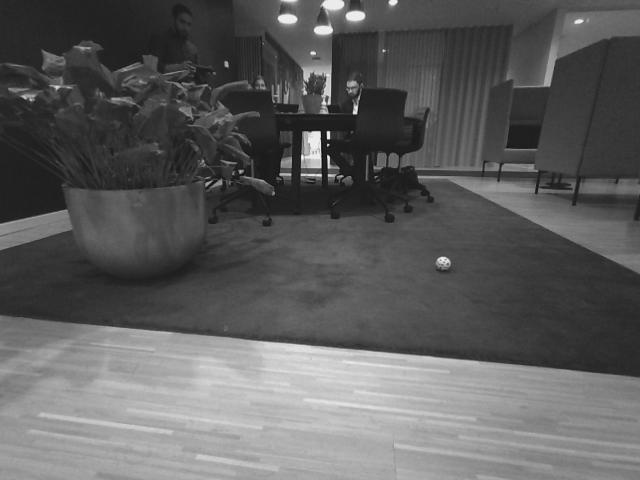dogtoy: (428, 251, 457, 274)
